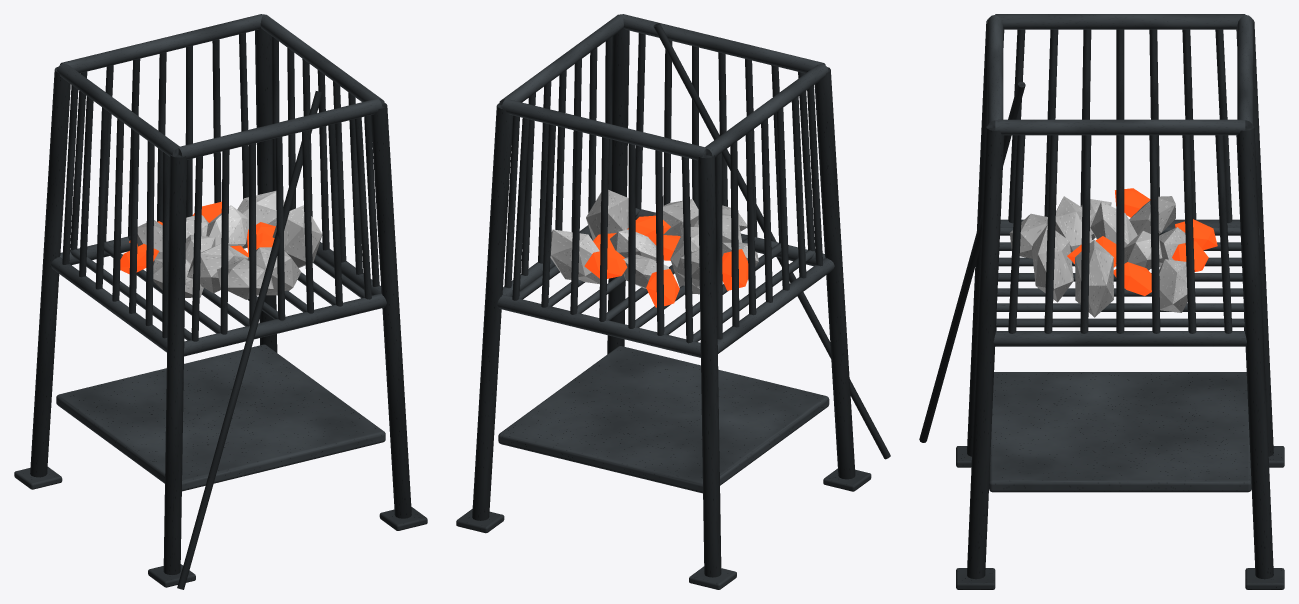
The picture shows the model from 3 angles, left to right: view 1: azimuth 30°, elevation 25°; view 2: azimuth 150°, elevation 25°; view 3: azimuth 270°, elevation 25°; orthographic projection. The views are drawn at different scales.
Visible parts, largest first — view 1: blackened strap iron, forged iron, charcoal, banked embers; view 2: blackened strap iron, forged iron, charcoal, banked embers; view 3: forged iron, blackened strap iron, charcoal, banked embers.
Boxes of the visible parts, x1,y1,x2,y2 form: blackened strap iron: [30, 28, 411, 589]; forged iron: [14, 14, 427, 587]; charcoal: [137, 191, 322, 299]; banked embers: [120, 201, 275, 274]; blackened strap iron: [472, 23, 890, 577]; forged iron: [456, 14, 871, 589]; charcoal: [550, 190, 758, 294]; banked embers: [584, 215, 748, 307]; forged iron: [956, 14, 1284, 589]; blackened strap iron: [919, 19, 1273, 579]; charcoal: [1009, 196, 1187, 317]; banked embers: [1067, 188, 1217, 295].
Bounding box in the file's own units: 0.5055 × 0.7833 × 0.5559.
4 materials, 3 textured.
